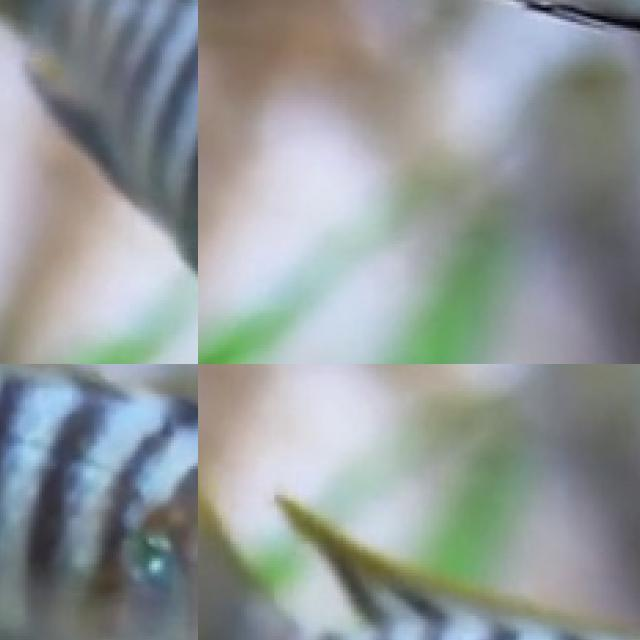fish: (0, 0, 198, 364), (198, 0, 640, 91)
